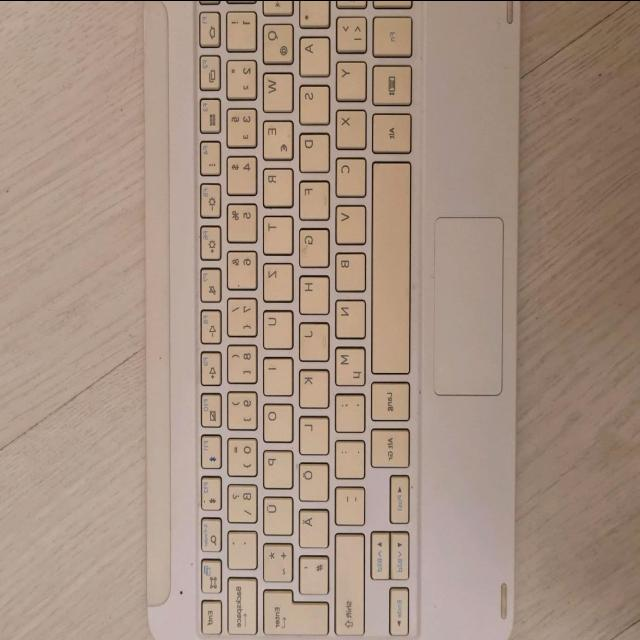0: (224, 432, 256, 474)
1: (223, 6, 255, 48)
2: (223, 55, 255, 97)
3: (224, 103, 256, 145)
4: (224, 151, 256, 192)
5: (224, 197, 255, 239)
6: (224, 246, 256, 287)
7: (224, 293, 256, 334)
8: (225, 340, 256, 380)
9: (224, 386, 256, 427)
a: (296, 32, 328, 74)
accent: (224, 526, 255, 566)
ae: (296, 504, 327, 546)
alt-left: (370, 110, 411, 152)
altgr-right: (368, 424, 409, 466)
b: (333, 247, 364, 289)
c: (333, 152, 365, 194)
caret: (223, 0, 255, 10)
comma: (332, 388, 363, 430)
d: (297, 128, 328, 169)
del: (224, 572, 256, 634)
e: (260, 115, 292, 157)
enter: (259, 585, 329, 639)
f: (297, 176, 327, 216)
g: (296, 223, 328, 264)
h: (297, 270, 328, 311)
hash: (296, 551, 327, 591)
i: (260, 352, 291, 392)
j: (296, 317, 327, 358)
k: (295, 365, 327, 405)
keyboard: (190, 0, 420, 640)
l: (296, 412, 328, 452)
less: (333, 11, 365, 50)
m: (332, 341, 364, 383)
minus: (333, 481, 363, 523)
n: (333, 294, 364, 335)
o: (260, 398, 291, 439)
oe: (296, 458, 327, 499)
p: (260, 445, 291, 486)
plus: (260, 538, 291, 580)
point: (333, 435, 363, 476)
q: (260, 18, 292, 62)
r: (260, 163, 292, 204)
s: (297, 80, 328, 121)
shift-left: (333, 0, 365, 14)
shift-lock: (296, 0, 328, 25)
shift-right: (331, 529, 363, 635)
space: (368, 159, 410, 374)
ss: (224, 478, 256, 520)
strg-left: (370, 0, 412, 14)
t: (260, 211, 292, 251)
tab: (259, 1, 293, 17)
u: (260, 306, 292, 346)
ue: (260, 492, 292, 533)
v: (333, 200, 364, 241)
w: (259, 67, 291, 109)
x: (333, 105, 365, 146)
y: (333, 56, 365, 98)
z: (260, 258, 292, 299)
